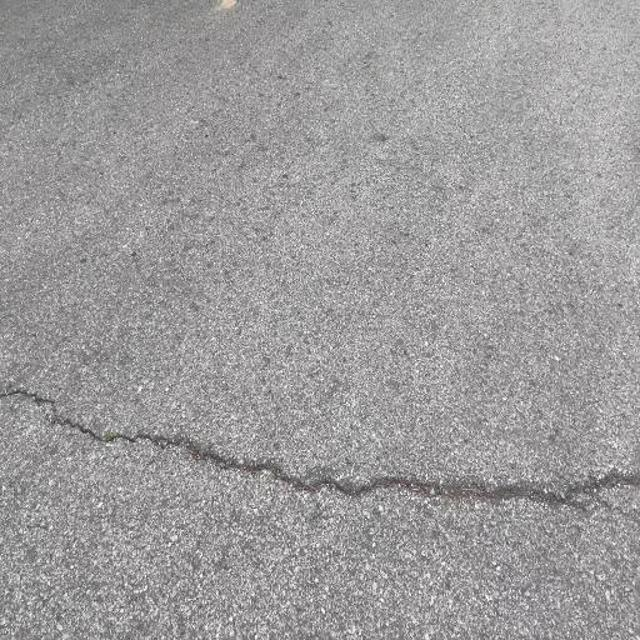Melintang: (0, 376, 640, 519)
